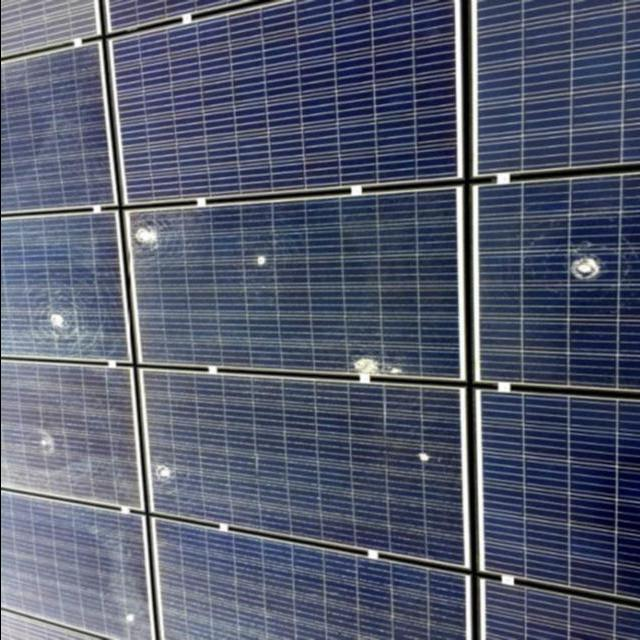cracked: (141, 373, 477, 569), (127, 190, 460, 381), (475, 182, 640, 394), (1, 360, 150, 510), (1, 494, 154, 638), (1, 212, 138, 362)
